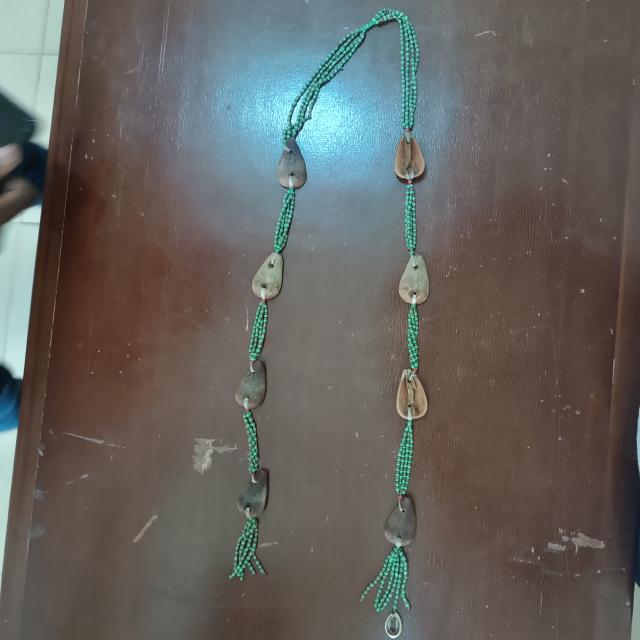facedown: (383, 491, 421, 550), (236, 464, 272, 524), (248, 248, 286, 304), (233, 356, 270, 413), (396, 250, 432, 308), (277, 132, 310, 192)
faceup: (392, 363, 429, 423), (393, 132, 428, 185)
